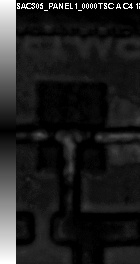led: (36, 82, 108, 174)
